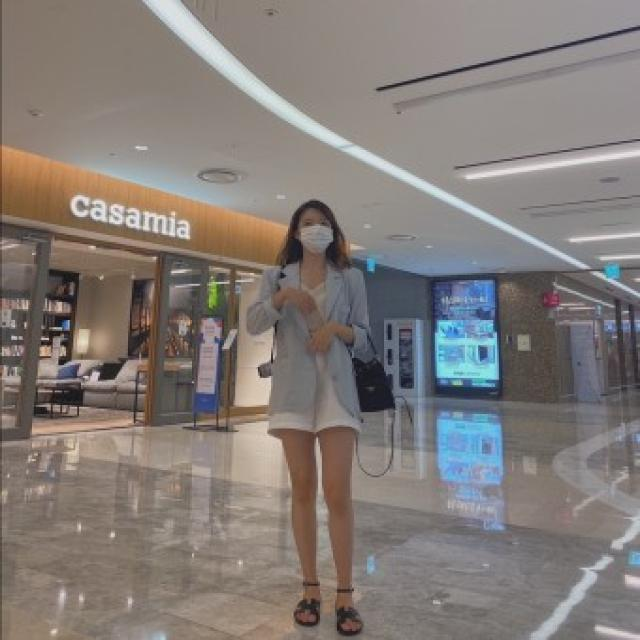no-boots: (280, 571, 330, 638), (318, 593, 382, 640)
